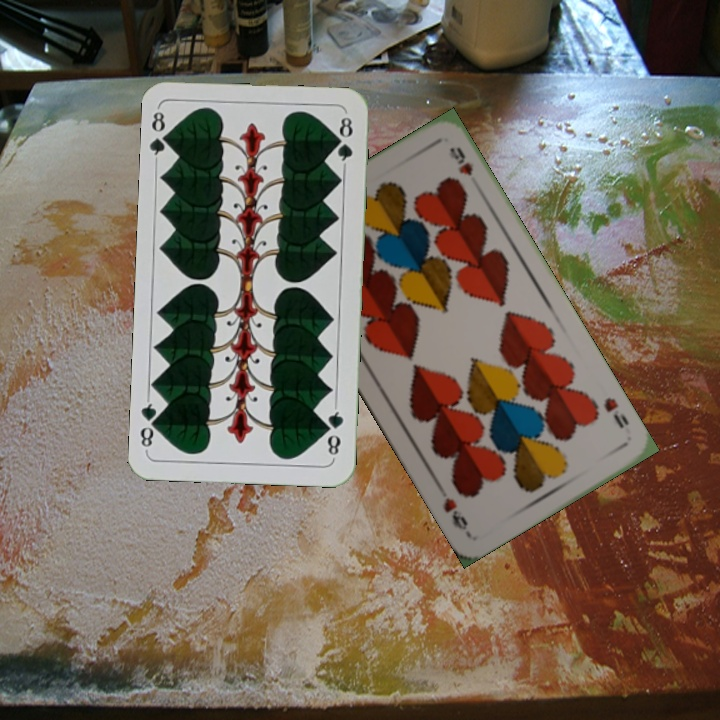G8: (147, 105, 175, 164), (322, 402, 346, 461)
H9: (599, 393, 632, 431)
